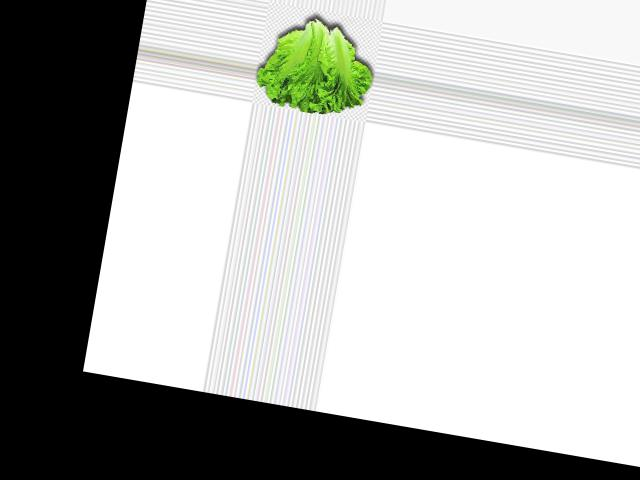lettuce: (254, 8, 383, 122)
